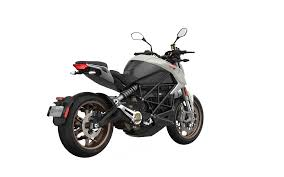motorcycle: (45, 27, 206, 155)
